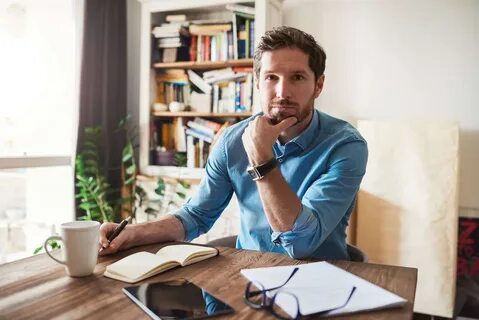awake: (200, 24, 370, 261)
